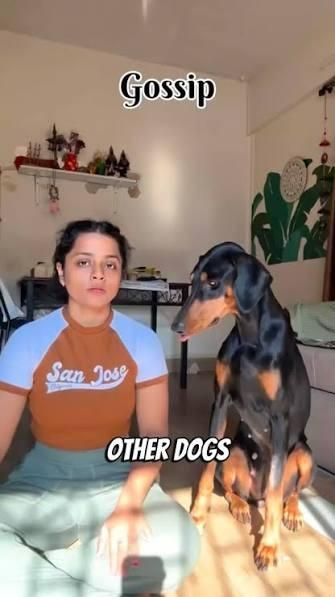adult_dog: (171, 240, 317, 567)
non-dog: (0, 219, 197, 597)
